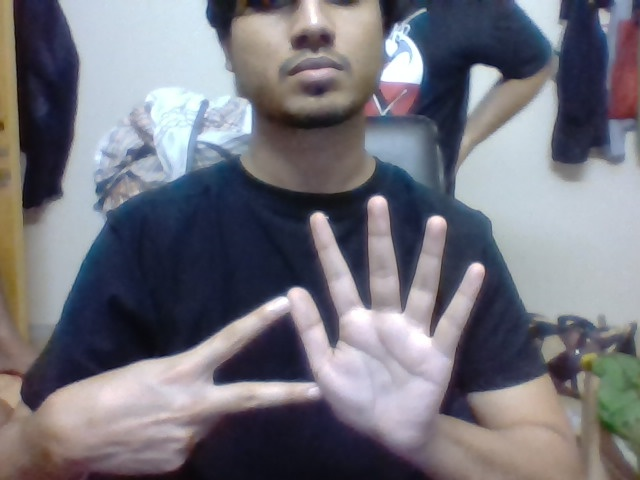N: (204, 292, 290, 418)
